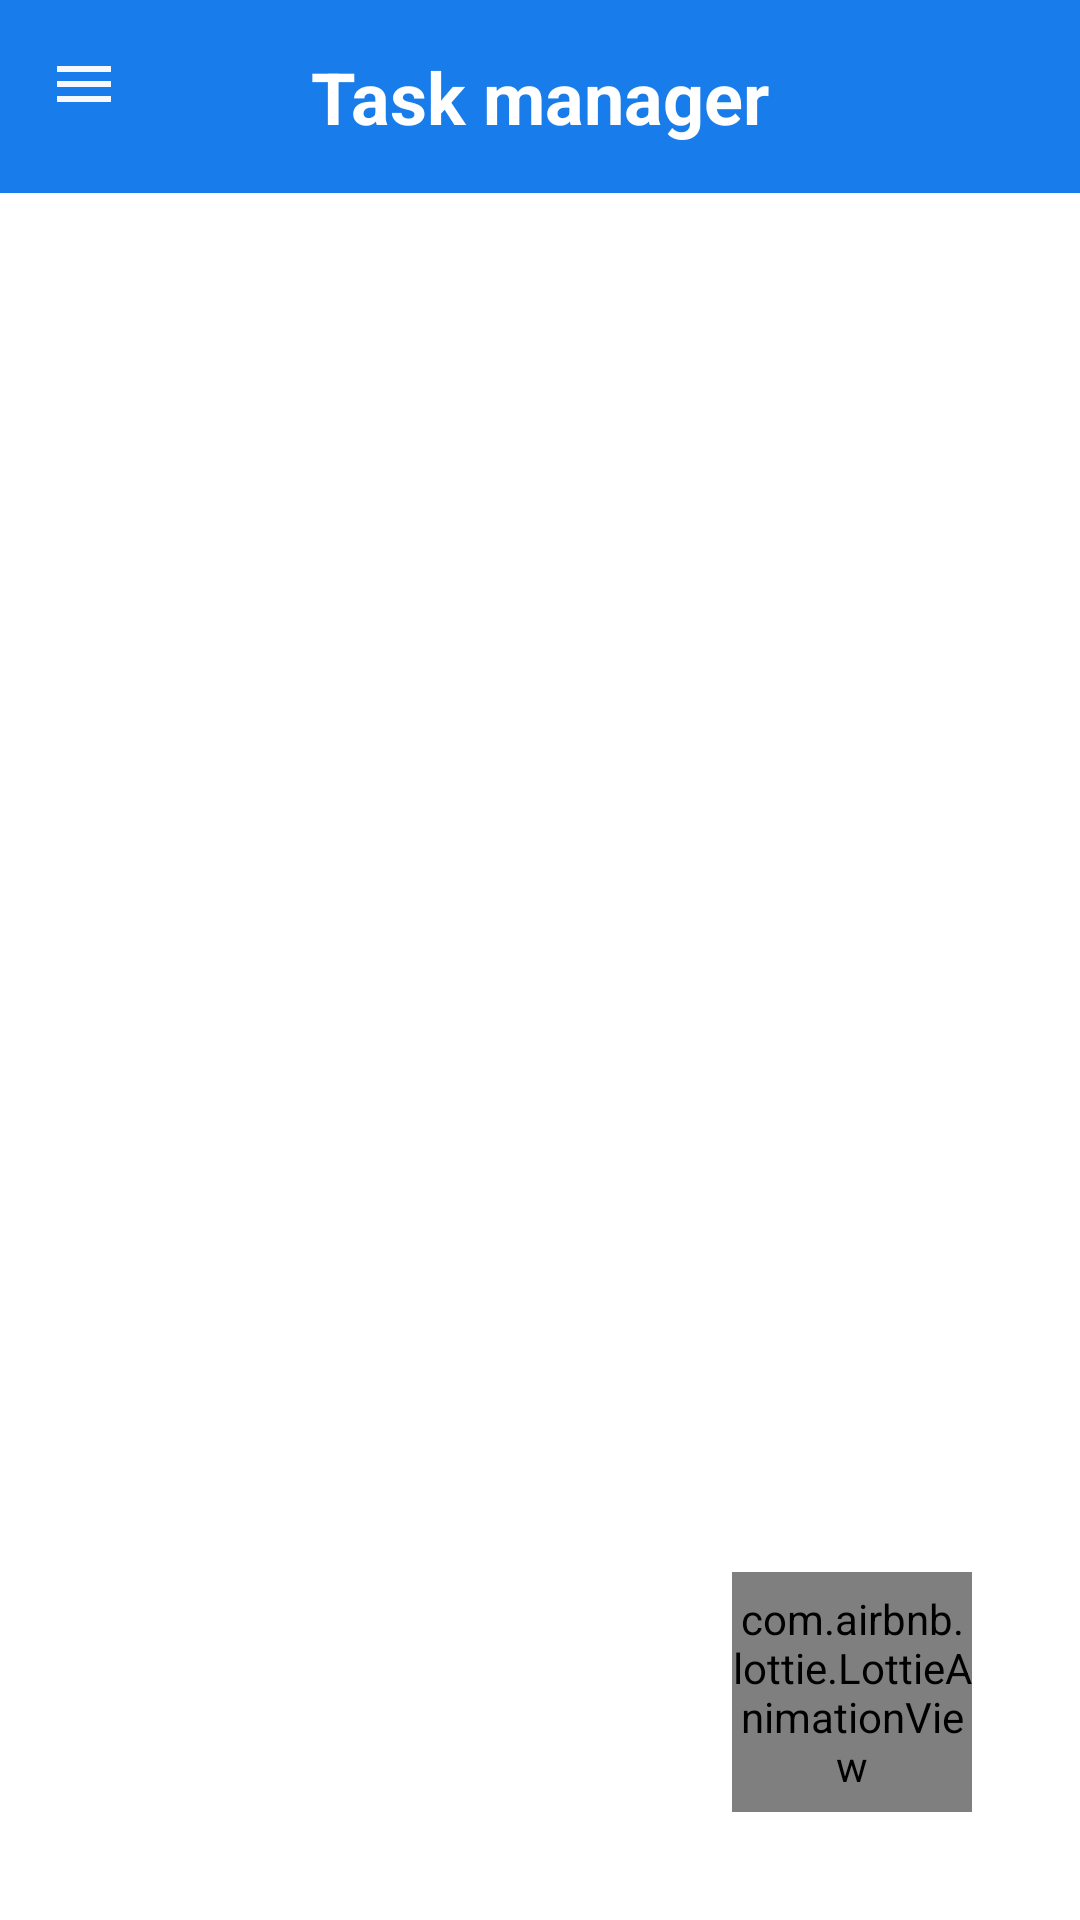

Icon click points for this 1080×1920 phone screenshot, format point (x, y):
menu: point (84, 84)
